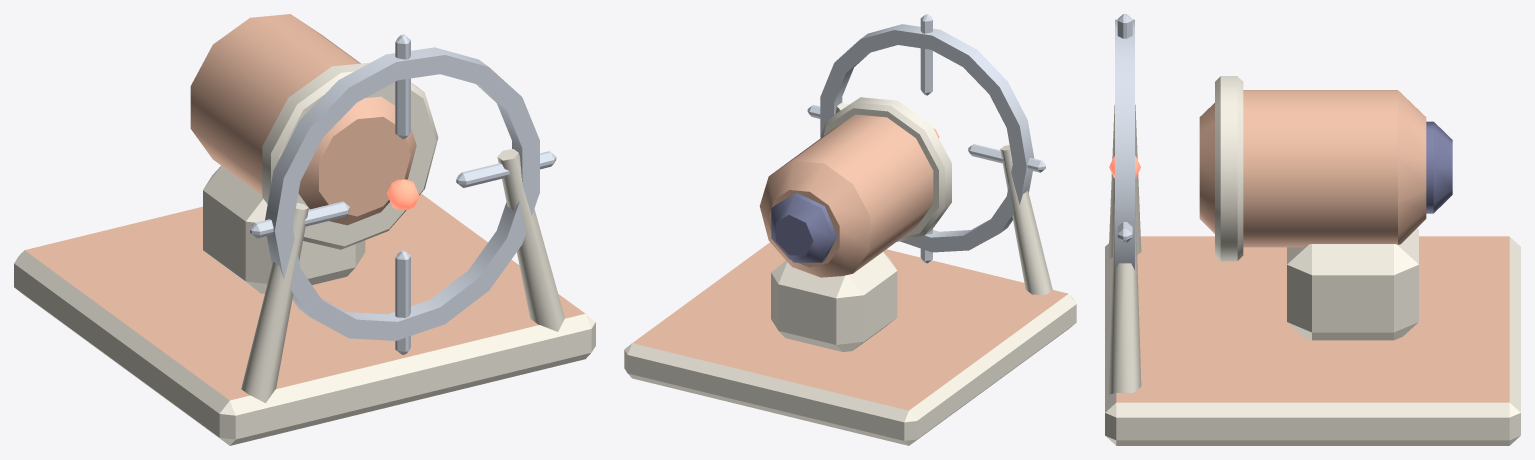
Rendered from R4X_WeakPointScanner_LOD1.fbx.
The picture shows the model from 3 angles, left to right: view 1: azimuth 30°, elevation 25°; view 2: azimuth 150°, elevation 25°; view 3: azimuth 270°, elevation 25°; orthographic projection. The views are drawn at different scales.
Visible parts, largest first — view 1: R4X_WeakPointScanner_LOD1; view 2: R4X_WeakPointScanner_LOD1; view 3: R4X_WeakPointScanner_LOD1.
Part boxes in pixels (x1,y1,x2,y2): R4X_WeakPointScanner_LOD1: (14, 14, 595, 445); R4X_WeakPointScanner_LOD1: (624, 14, 1076, 445); R4X_WeakPointScanner_LOD1: (1105, 14, 1520, 445).
Size of the model in its own units: 0.52 by 0.4804 by 0.52.
